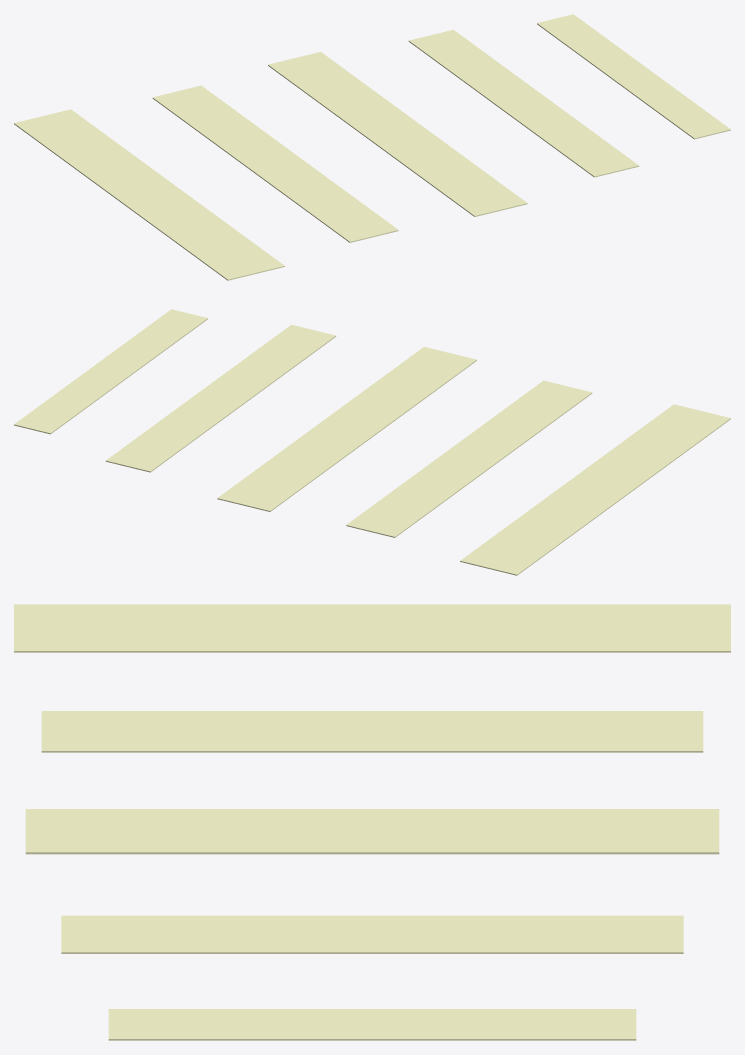
The model's file is marking_crosswalk_worn.glb.
3 views of the same model, one above another, from view 1: azimuth 30°, elevation 25°; view 2: azimuth 150°, elevation 25°; view 3: azimuth 270°, elevation 25° (orthographic). The views are drawn at different scales.
Parts seen in each view (by area): view 1: stripe_0, stripe_2, stripe_1, stripe_3, stripe_4; view 2: stripe_0, stripe_2, stripe_1, stripe_3, stripe_4; view 3: stripe_0, stripe_2, stripe_1, stripe_3, stripe_4.
Boxes of the visible parts, bbox=[...] form: stripe_0: bbox=[14, 109, 284, 280]; stripe_2: bbox=[268, 51, 527, 216]; stripe_1: bbox=[152, 85, 398, 242]; stripe_3: bbox=[408, 29, 639, 177]; stripe_4: bbox=[537, 14, 730, 139]; stripe_0: bbox=[460, 404, 730, 575]; stripe_2: bbox=[217, 346, 476, 511]; stripe_1: bbox=[346, 380, 592, 537]; stripe_3: bbox=[105, 324, 336, 472]; stripe_4: bbox=[14, 309, 207, 434]; stripe_0: bbox=[14, 604, 730, 652]; stripe_2: bbox=[25, 809, 719, 854]; stripe_1: bbox=[41, 711, 703, 752]; stripe_3: bbox=[61, 915, 683, 953]; stripe_4: bbox=[108, 1009, 636, 1040].
Size of the model in its own units: 2.61 by 0.005 by 1.82.
